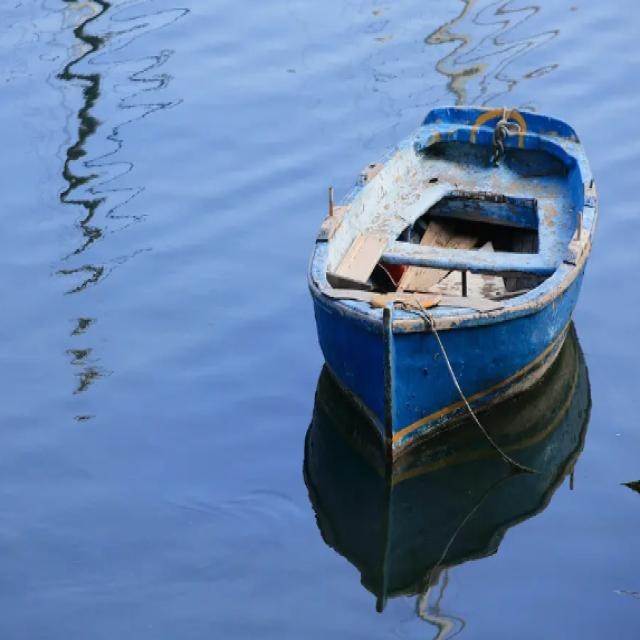fishing boat: (298, 102, 602, 466)
